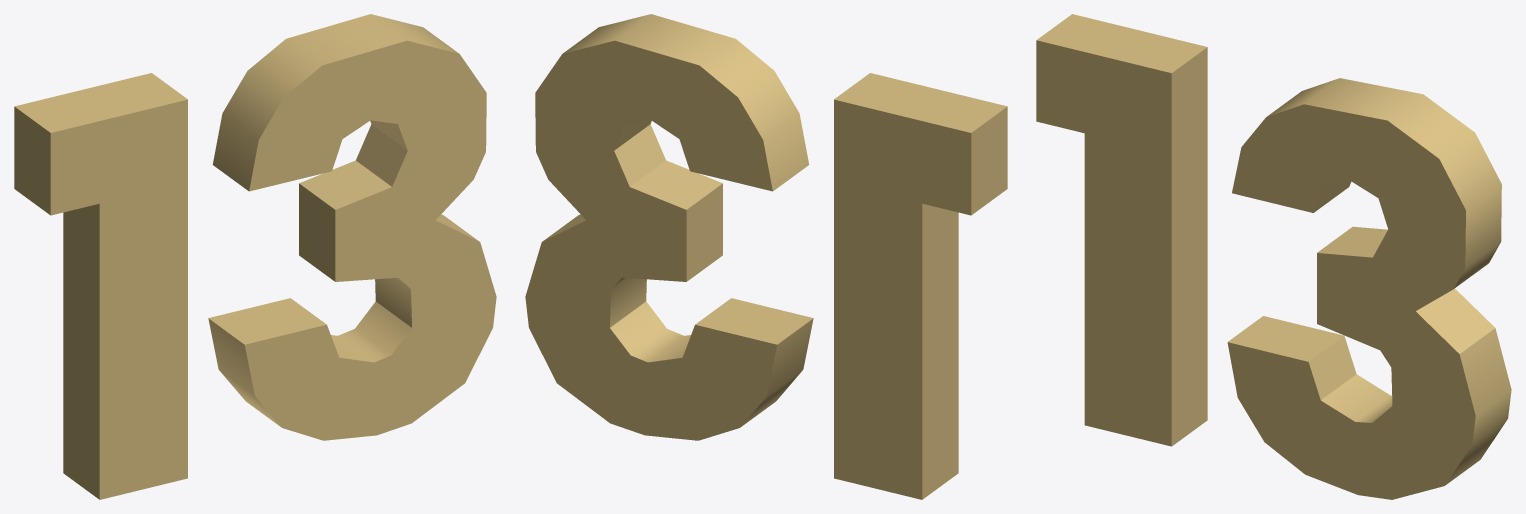
The model's file is kr_num_13.glb.
3 views of the same model, side by side, from view 1: azimuth 30°, elevation 25°; view 2: azimuth 150°, elevation 25°; view 3: azimuth 330°, elevation 25° (orthographic).
Parts seen in each view (by area): view 1: vc_m8_r2; view 2: vc_m8_r2; view 3: vc_m8_r2.
Boxes of the visible parts, x1,y1,x2,y2 form: vc_m8_r2: (14, 14, 496, 499); vc_m8_r2: (525, 14, 1007, 499); vc_m8_r2: (1036, 14, 1511, 499).
Bounding box in the file's own units: 0.4245 × 0.3525 × 0.06.
